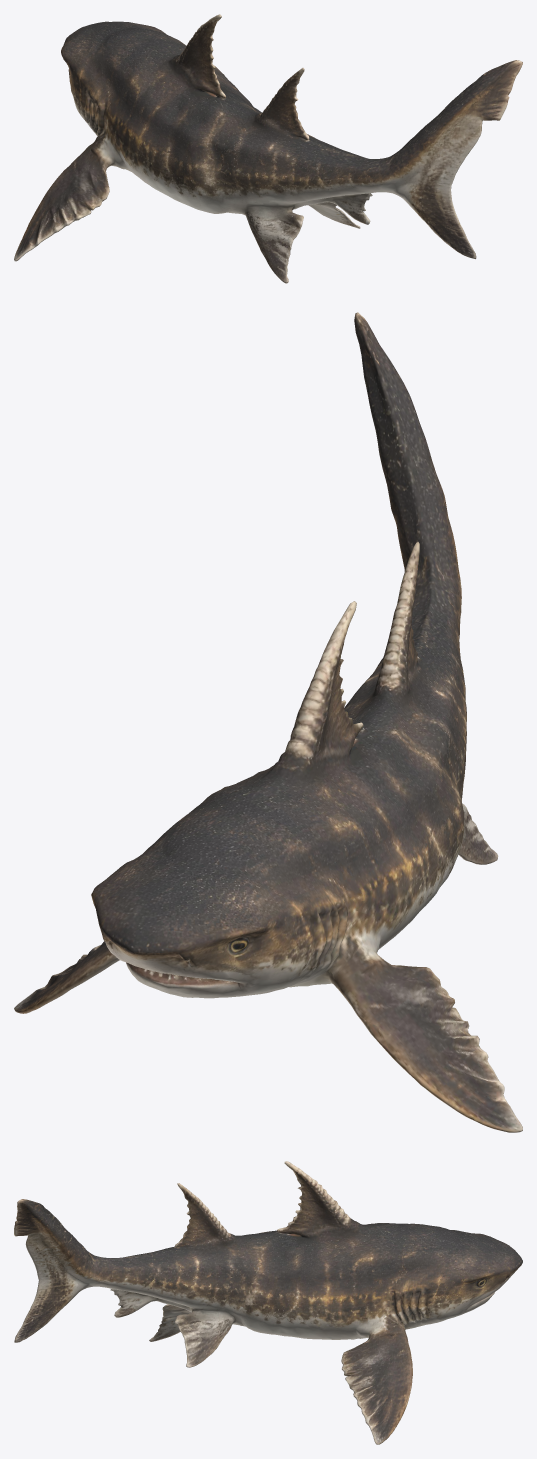
File: hybodus.preview.glb
3 views of the same model, one above another, from view 1: azimuth 30°, elevation 25°; view 2: azimuth 150°, elevation 25°; view 3: azimuth 270°, elevation 25° (orthographic). The views are drawn at different scales.
Parts seen in each view (by area): view 1: tripo_node_1a016b48-0e1d-4070-9662-b14318537b08.001; view 2: tripo_node_1a016b48-0e1d-4070-9662-b14318537b08.001; view 3: tripo_node_1a016b48-0e1d-4070-9662-b14318537b08.001.
Part boxes in pixels (bbox=[...]): tripo_node_1a016b48-0e1d-4070-9662-b14318537b08.001: bbox=[14, 14, 522, 283]; tripo_node_1a016b48-0e1d-4070-9662-b14318537b08.001: bbox=[14, 312, 522, 1132]; tripo_node_1a016b48-0e1d-4070-9662-b14318537b08.001: bbox=[14, 1161, 522, 1444].
Bounding box in the file's own units: 0.6153 × 0.5261 × 1.
Materials: 1 (1 with a texture image).
